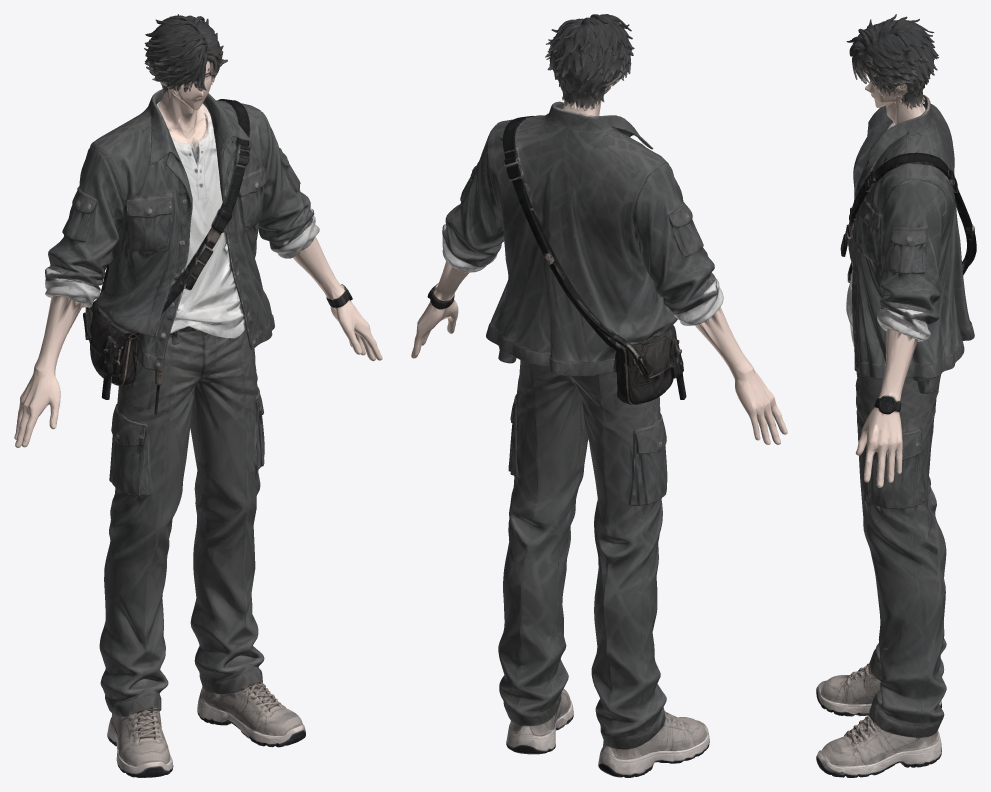
File: he_linchuan.glb
3 views of the same model, side by side, from view 1: azimuth 30°, elevation 25°; view 2: azimuth 150°, elevation 25°; view 3: azimuth 270°, elevation 25° (orthographic). The views are drawn at different scales.
Parts seen in each view (by area): view 1: Mesh_0; view 2: Mesh_0; view 3: Mesh_0.
Boxes of the visible parts, bbox=[...] form: Mesh_0: bbox=[14, 14, 382, 777]; Mesh_0: bbox=[411, 14, 787, 777]; Mesh_0: bbox=[816, 14, 976, 777].
Bounding box in the file's own units: 0.864 × 1.65 × 0.3352.
1 material, 1 textured.
